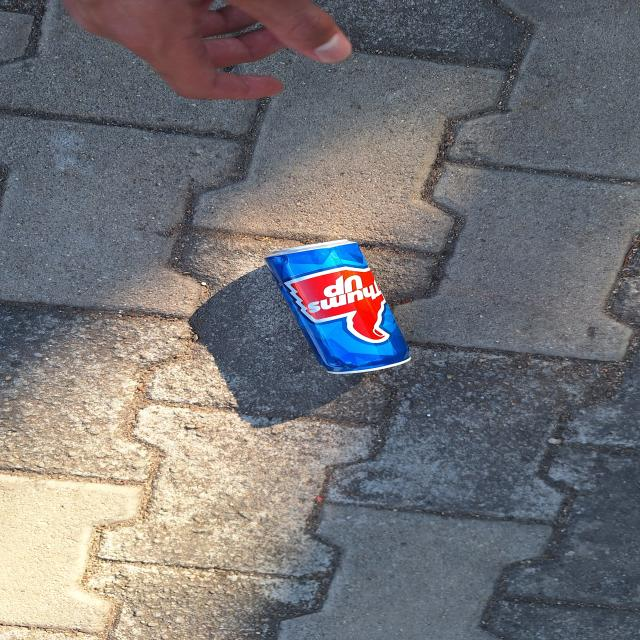Thums Up: (260, 238, 418, 380)
